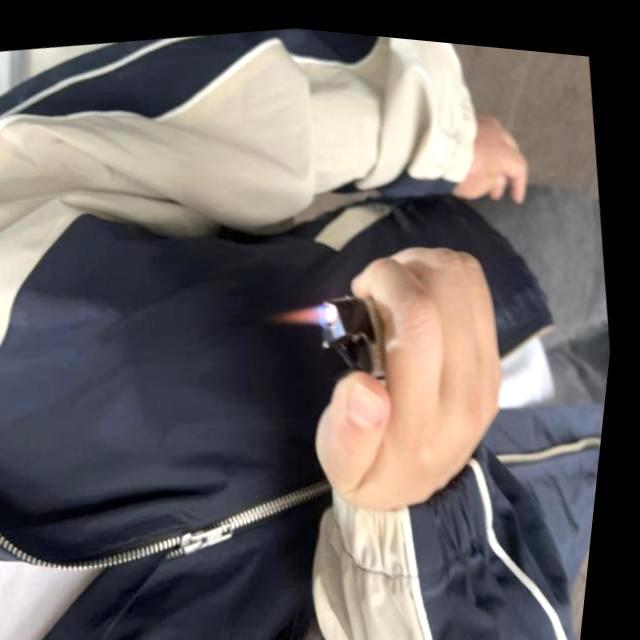fire: (288, 294, 334, 324)
